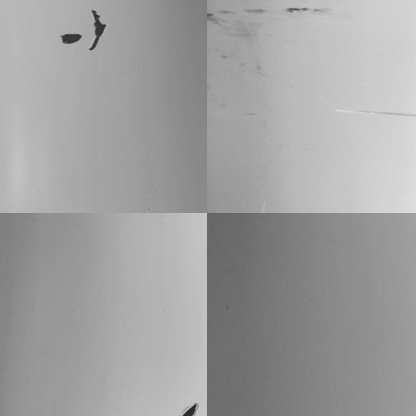kongdong: (88, 11, 112, 58), (61, 31, 81, 44), (180, 401, 197, 416)
